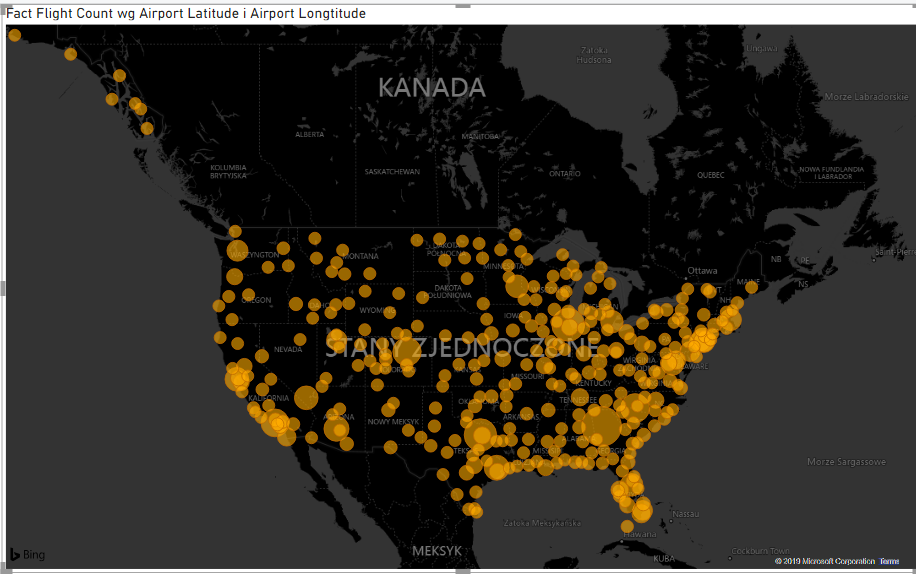

What the dashboard file says about the page in this screenshot:
{"tool":"powerbi","page":{"name":"Strona 3","canvas":[1280,720],"ordinal":2},"visuals":[{"type":"map","fields":{"Size":["Fact Flight.Fact Flight Count"],"X":["Destination Airport.Airport Longtitude"],"Y":["Destination Airport.Airport Latitude"]},"box":[9.5,0,1092.2,673.9],"z":0}]}

Visuals, with their boxes on the page's 1280x720 design canvas (x1, y1, x2, y2). These are canvas units, not pixel positions in the 916x577 screenshot, which may show the page scaled, cropped or inside an application window:
map - Fact Flight.Fact Flight Count x Destination Airport.Airport Longtitude: (left=10, top=0, right=1102, bottom=674)
